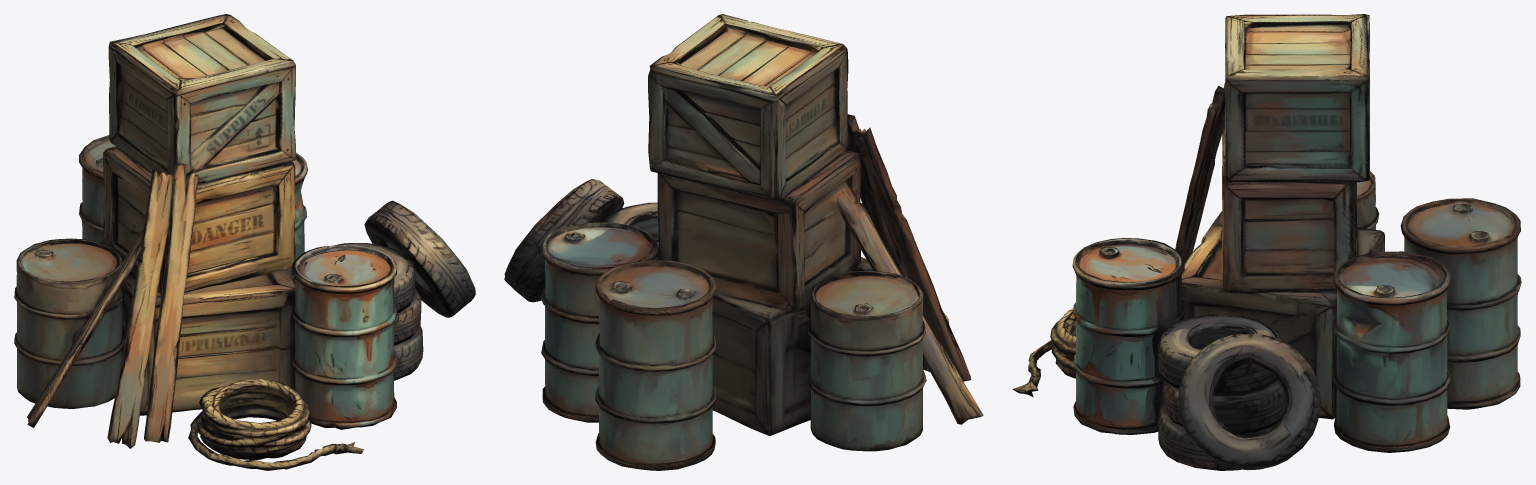
Rendered from wl_junk_pile.glb.
The picture shows the model from 3 angles, left to right: view 1: azimuth 30°, elevation 25°; view 2: azimuth 150°, elevation 25°; view 3: azimuth 270°, elevation 25°; orthographic projection. The views are drawn at different scales.
Visible parts, largest first — view 1: wl_junk_pile; view 2: wl_junk_pile; view 3: wl_junk_pile.
Boxes of the visible parts, left/top/right/bottom form: wl_junk_pile: left=14, top=14, right=475, bottom=470; wl_junk_pile: left=504, top=14, right=983, bottom=470; wl_junk_pile: left=1012, top=14, right=1521, bottom=470.
Size of the model in its own units: 1 by 0.7009 by 0.952.
Materials: 1 (1 with a texture image).
